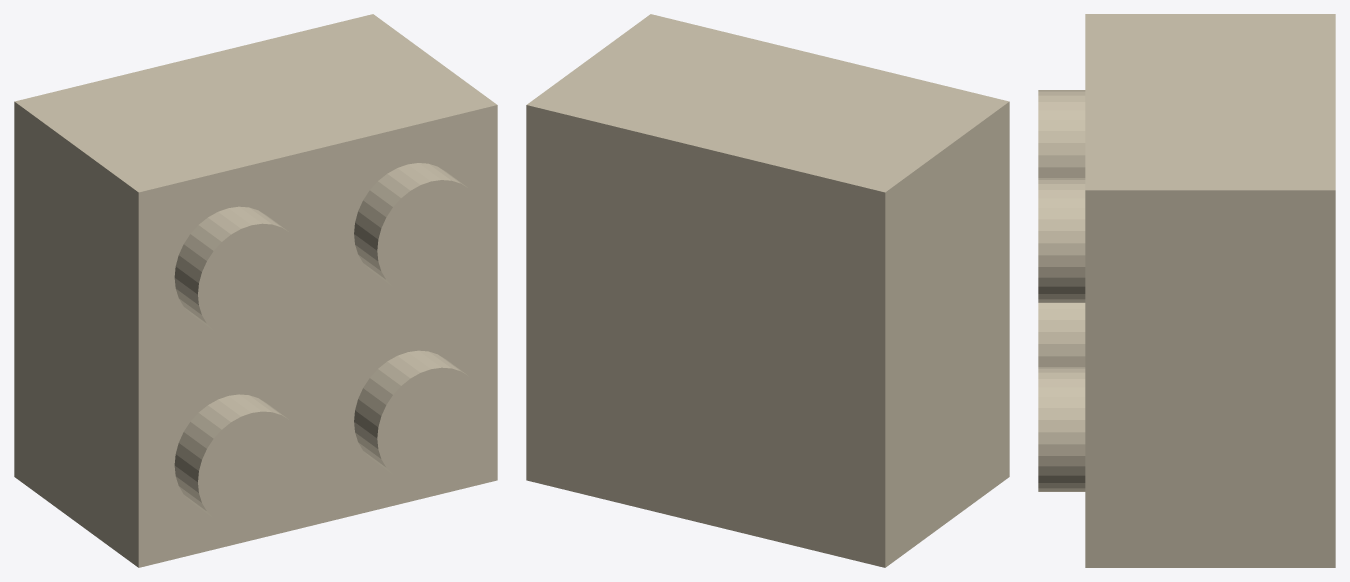
Rendered from brick_1.glb.
The picture shows the model from 3 angles, left to right: view 1: azimuth 30°, elevation 25°; view 2: azimuth 150°, elevation 25°; view 3: azimuth 270°, elevation 25°; orthographic projection.
Visible parts, largest first — view 1: world; view 2: world; view 3: world.
Boxes of the visible parts, x1,y1,x2,y2 form: world: [14, 14, 497, 567]; world: [526, 14, 1009, 567]; world: [1038, 14, 1335, 567].
Size of the model in its own units: 16 by 16 by 11.4.
